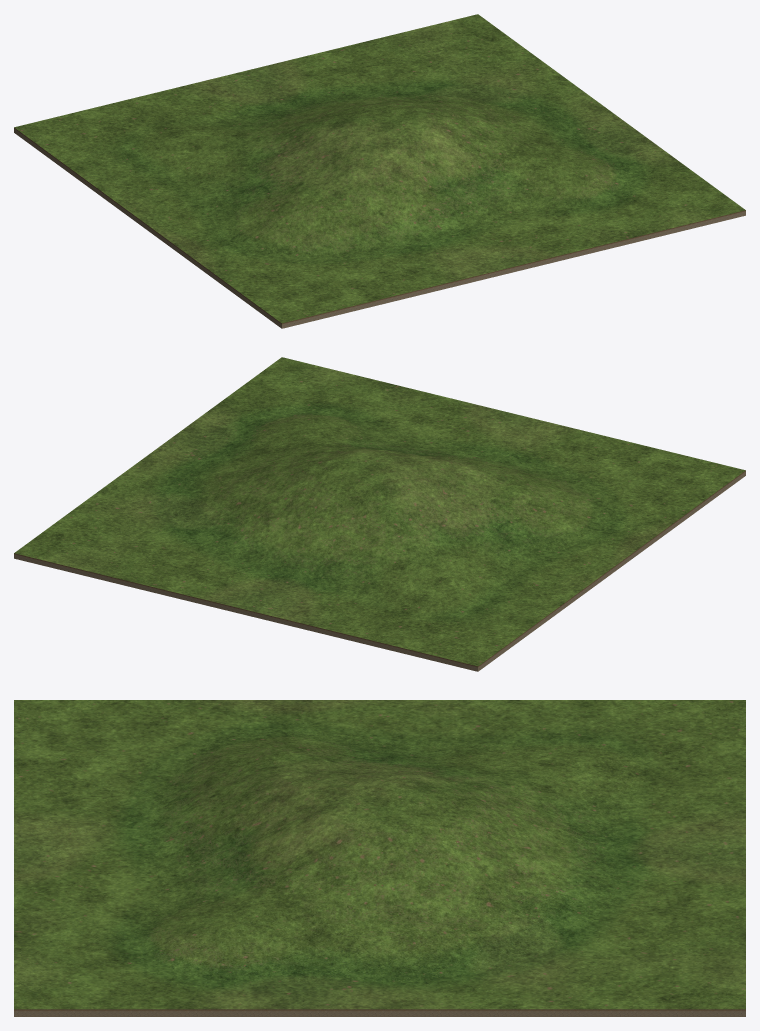
The model's file is rolling-hill.glb.
3 renders of one model, top to bottom at view 1: azimuth 30°, elevation 25°; view 2: azimuth 150°, elevation 25°; view 3: azimuth 270°, elevation 25°, orthographic. The views are drawn at different scales.
Visible parts, largest first — view 1: Grazed hill pasture; view 2: Grazed hill pasture; view 3: Grazed hill pasture.
Part boxes in pixels (left/top/right/bottom): Grazed hill pasture: left=14, top=14, right=745, bottom=328; Grazed hill pasture: left=14, top=357, right=745, bottom=671; Grazed hill pasture: left=14, top=700, right=745, bottom=1016.
Bounding box in the file's own units: 360 × 36 × 360.
2 materials, 2 textured.
